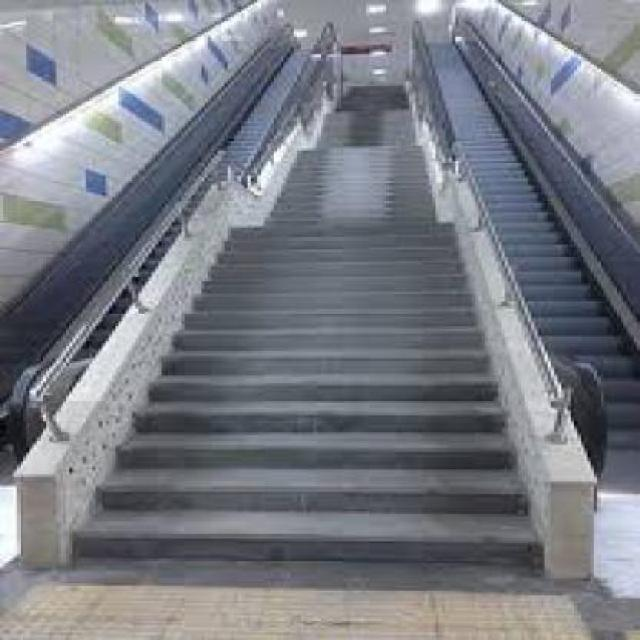stair: (11, 2, 596, 588)
